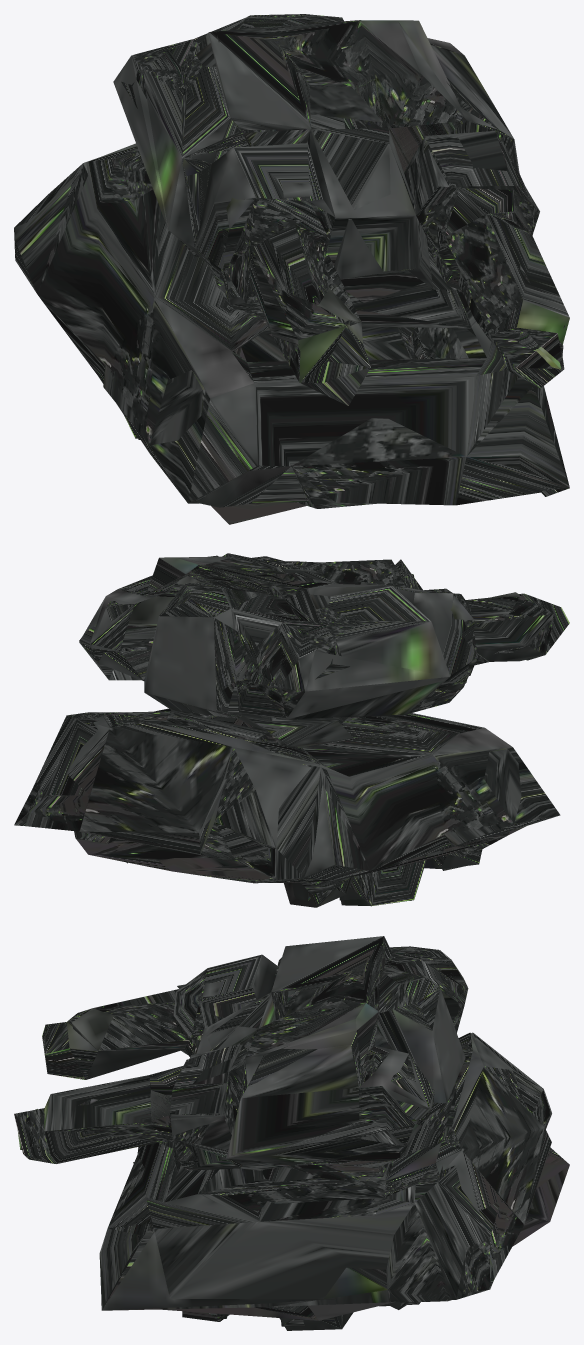
The model's file is gun-hover.glb.
3 renders of one model, top to bottom at view 1: azimuth 30°, elevation 25°; view 2: azimuth 150°, elevation 25°; view 3: azimuth 270°, elevation 25°, orthographic. The views are drawn at different scales.
Size of the model in its own units: 0.7123 by 0.6009 by 0.9331.
Materials: 1 (1 with a texture image).
